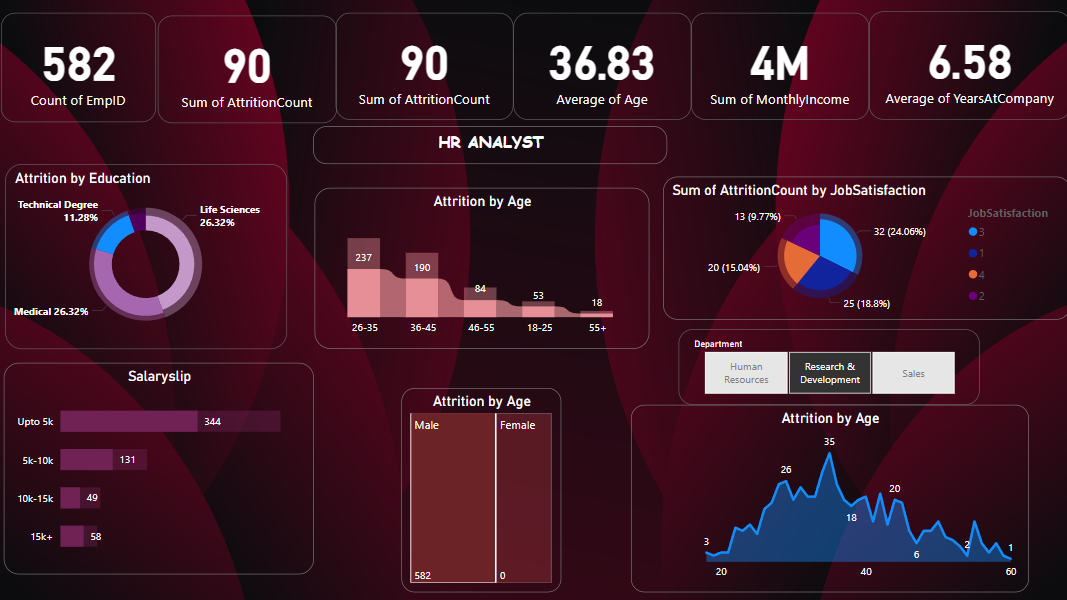

The page's visual inventory and layout, read from the dashboard file:
{"tool":"powerbi","page":{"name":"HR Analytical DASHBOARD","canvas":[1280,720],"ordinal":0},"visuals":[{"type":"card","fields":{"Values":["CountNonNull(HR_Analytics.EmpID)"]},"box":[8,20,184,130],"z":0},{"type":"card","fields":{"Values":["Sum(HR_Analytics.AttritionCount)"]},"box":[195,22.5,212.5,127.5],"z":1000},{"type":"card","fields":{"Values":["Sum(HR_Analytics.AttritionCount)"]},"box":[406.5,19.4,211.3,127.4],"z":2000},{"type":"card","fields":{"Values":["Avg(HR_Analytics.Age)"]},"box":[617.7,19.4,211.3,127.4],"z":3000},{"type":"card","fields":{"Values":["Sum(HR_Analytics.MonthlyIncome)"]},"box":[829,19.4,211.3,127.4],"z":4000},{"type":"card","fields":{"Values":["Avg(HR_Analytics.YearsAtCompany)"]},"box":[1040,18.3,240,128.3],"z":5000},{"type":"donutChart","title":" Attrition by Education","fields":{"Category":["HR_Analytics.EducationField"],"Y":["Sum(HR_Analytics.AttritionCount)"]},"box":[12.5,200,335,220],"z":6000},{"type":"columnChart","title":" Attrition by Age","fields":{"Category":["HR_Analytics.AgeGroup"],"Y":["CountNonNull(HR_Analytics.AttritionCount)"]},"box":[381,228,397.7,191.3],"z":7000},{"type":"pieChart","fields":{"Category":["HR_Analytics.JobRole","HR_Analytics.JobSatisfaction"],"Y":["Sum(HR_Analytics.AttritionCount)"]},"box":[795.3,214.6,484.2,169.7],"z":8000},{"type":"clusteredBarChart","title":"Salaryslip","fields":{"Category":["HR_Analytics.SalarySlab"],"Y":["CountNonNull(HR_Analytics.AttritionCount)"]},"box":[11.7,436.7,368.3,251.7],"z":9000},{"type":"areaChart","title":" Attrition by Age","fields":{"Category":["HR_Analytics.Age"],"Y":["CountNonNull(HR_Analytics.AttritionCount)"]},"box":[757.1,485.9,472.5,223],"z":10000},{"type":"treemap","title":" Attrition by Age","fields":{"Group":["HR_Analytics.Gender"],"Values":["CountNonNull(HR_Analytics.AttritionCount)"]},"box":[484.2,465.9,189.7,242.9],"z":11000},{"type":"slicer","fields":{"Values":["HR_Analytics.Department"]},"box":[813.6,396,357.7,89.9],"z":12000},{"type":"treemap","title":"HR ANALYST","fields":{"Group":["HR_Analytics.Gender"],"Values":["CountNonNull(HR_Analytics.AttritionCount)"]},"box":[379.4,154.7,421,44.9],"z":13000}]}

Visuals, with their boxes in screenshot pixels (x1, y1, x2, y2), scaled from the page's 1280x720 canvas onto the 1067x600 screenshot:
card - CountNonNull(HR_Analytics.EmpID): [7,17,160,125]
card - Sum(HR_Analytics.AttritionCount): [163,19,340,125]
card - Sum(HR_Analytics.AttritionCount): [339,16,515,122]
card - Avg(HR_Analytics.Age): [515,16,691,122]
card - Sum(HR_Analytics.MonthlyIncome): [691,16,867,122]
card - Avg(HR_Analytics.YearsAtCompany): [867,15,1066,122]
" Attrition by Education" donutChart: [10,167,290,350]
" Attrition by Age" columnChart: [318,190,649,349]
pieChart - HR_Analytics.JobRole x HR_Analytics.JobSatisfaction: [663,179,1066,320]
"Salaryslip" clusteredBarChart: [10,364,317,574]
" Attrition by Age" areaChart: [631,405,1025,591]
" Attrition by Age" treemap: [404,388,562,591]
slicer - HR_Analytics.Department: [678,330,976,405]
"HR ANALYST" treemap: [316,129,667,166]
